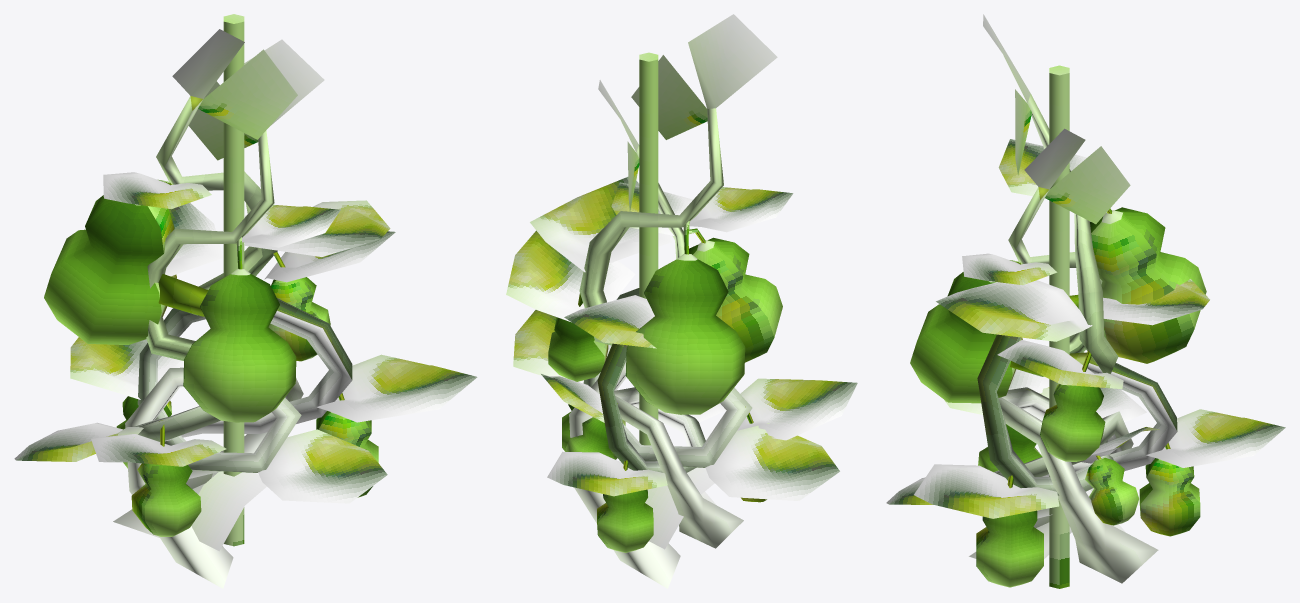
The model's file is botany_000017_02.FBX.
The picture shows the model from 3 angles, left to right: view 1: azimuth 30°, elevation 25°; view 2: azimuth 150°, elevation 25°; view 3: azimuth 270°, elevation 25°; orthographic projection. The views are drawn at different scales.
Visible parts, largest first — view 1: botany_000017_02; view 2: botany_000017_02; view 3: botany_000017_02.
Boxes of the visible parts, left/top/right/bottom form: botany_000017_02: left=14, top=14, right=477, bottom=588; botany_000017_02: left=506, top=14, right=857, bottom=588; botany_000017_02: left=886, top=14, right=1285, bottom=588.
Bounding box in the file's own units: 74.73 × 101 × 67.28.
